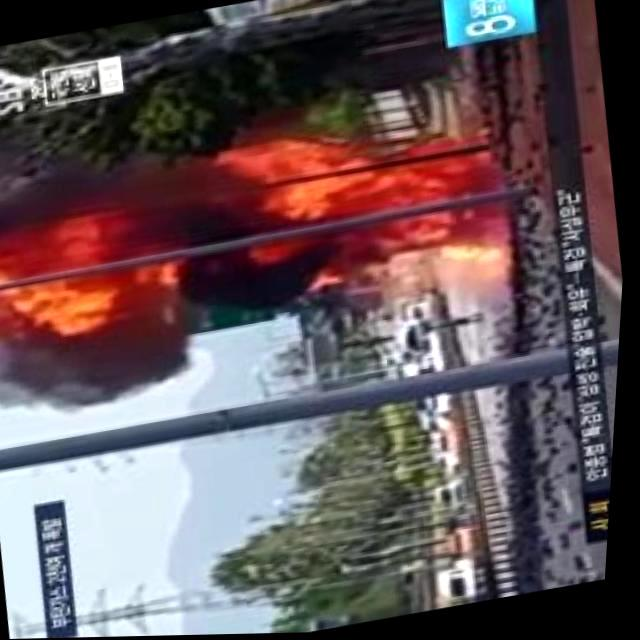fire: (247, 102, 523, 300), (0, 225, 152, 339)
